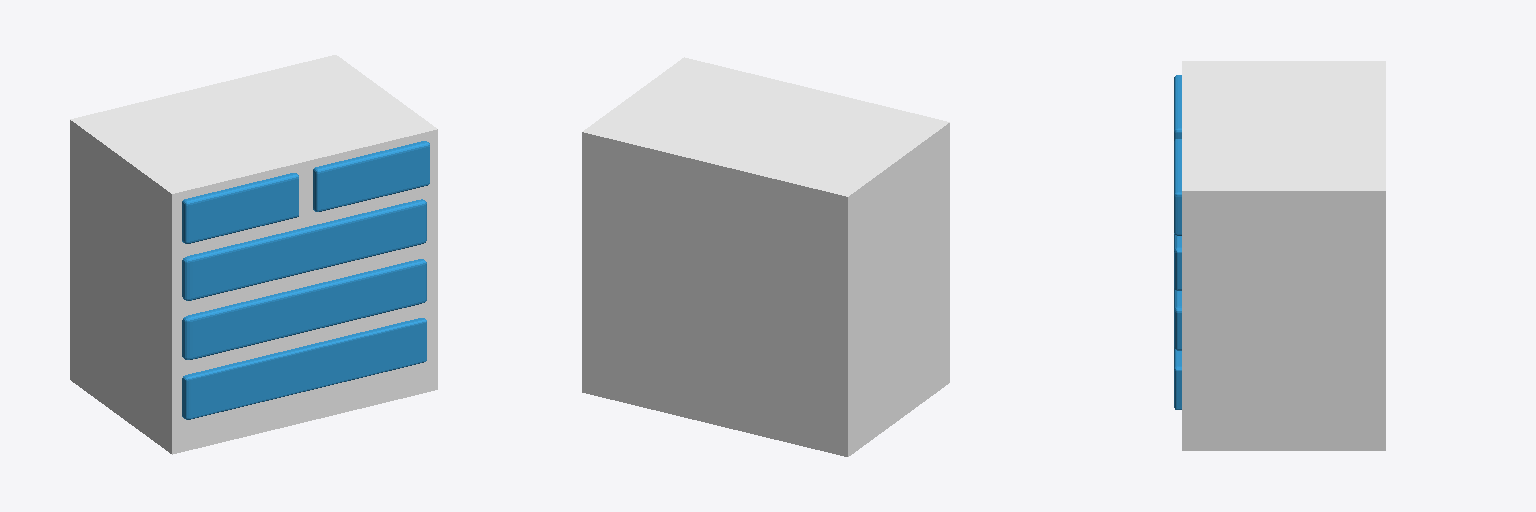
Rendered from chestOfDrawers.obj.
The picture shows the model from 3 angles: view 1: azimuth 30°, elevation 25°; view 2: azimuth 150°, elevation 25°; view 3: azimuth 270°, elevation 25°; orthographic projection.
Parts seen in each view (by area): view 1: Box003, Box008, Box006, Box007, Box004, Box005; view 2: Box003; view 3: Box003, Box005.
Part boxes in pixels (bbox=[...]): Box003: bbox=[70, 55, 437, 454]; Box008: bbox=[182, 318, 426, 419]; Box006: bbox=[182, 199, 426, 300]; Box007: bbox=[182, 259, 426, 359]; Box004: bbox=[182, 173, 298, 243]; Box005: bbox=[313, 141, 429, 211]; Box003: bbox=[582, 57, 949, 456]; Box003: bbox=[1182, 61, 1385, 450]; Box005: bbox=[1174, 139, 1181, 235].
Size of the model in its own units: 29.96 by 28.03 by 20.65.